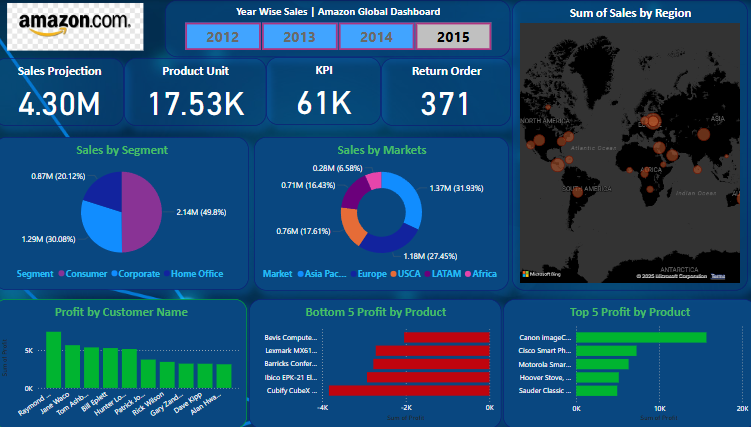

The dashboard page shown, as its layout file describes it:
{"tool":"powerbi","page":{"name":"Amazon P&L","canvas":[1280,720],"ordinal":0},"visuals":[{"type":"slicer","title":"Year Wise Sales | Amazon Global Dashboard","fields":{"Values":["Orders.Year"]},"box":[288,0,580,96],"z":0},{"type":"image","box":[0,0,272,90],"z":1000},{"type":"card","title":"Sales Projection","fields":{"Values":["Orders.Sales"]},"box":[0,97.4,218.4,114.2],"z":2000},{"type":"card","title":"Product Unit","fields":{"Values":["Orders.Product Name"]},"box":[218.4,97.4,238.5,114.2],"z":3000},{"type":"card","title":"KPI","fields":{"Values":["Orders.Quantity"]},"box":[456.9,95.7,193.2,114.2],"z":4000},{"type":"card","title":"Return Order","fields":{"Values":["Orders.Ship Date"]},"box":[650.1,97.4,218.4,114.2],"z":5000},{"type":"pieChart","title":"Sales by Segment","fields":{"Y":["Orders.Sales"],"Category":["Orders.Segment"]},"box":[0,230.1,428.3,257],"z":6000},{"type":"donutChart","title":"Sales by Markets","fields":{"Y":["Orders.Sales"],"Category":["Orders.Market"]},"box":[436,230,428,258],"z":7000},{"type":"columnChart","title":"Profit by Customer Name","fields":{"Category":["Orders.Customer Name"],"Y":["Orders.Profit"]},"box":[0,502.3,425,218.4],"z":8000},{"type":"clusteredBarChart","title":"Bottom 5 Profit by Product","fields":{"Y":["Orders.Profit"],"Category":["Orders.Product Name"]},"box":[428,502,424,218],"z":9000},{"type":"clusteredBarChart","title":"Top 5 Profit by Product","fields":{"Y":["Orders.Profit"],"Category":["Orders.Product Name"]},"box":[855,502.3,425,218.4],"z":10000},{"type":"map","fields":{"Category":["Orders.Region"],"Size":["Orders.Sales"]},"box":[870,0,396,488],"z":11000}]}

Visuals, with their boxes in screenshot pixels (x1, y1, x2, y2), scaled from the page's 1280x720 canvas onto the 751x427 screenshot:
"Year Wise Sales | Amazon Global Dashboard" slicer: x1=169, y1=0, x2=509, y2=57
image: x1=0, y1=0, x2=160, y2=53
"Sales Projection" card: x1=0, y1=58, x2=128, y2=125
"Product Unit" card: x1=128, y1=58, x2=268, y2=125
"KPI" card: x1=268, y1=57, x2=381, y2=124
"Return Order" card: x1=381, y1=58, x2=510, y2=125
"Sales by Segment" pieChart: x1=0, y1=136, x2=251, y2=289
"Sales by Markets" donutChart: x1=256, y1=136, x2=507, y2=289
"Profit by Customer Name" columnChart: x1=0, y1=298, x2=249, y2=426
"Bottom 5 Profit by Product" clusteredBarChart: x1=251, y1=298, x2=500, y2=426
"Top 5 Profit by Product" clusteredBarChart: x1=502, y1=298, x2=750, y2=426
map - Orders.Region x Orders.Sales: x1=510, y1=0, x2=743, y2=289
